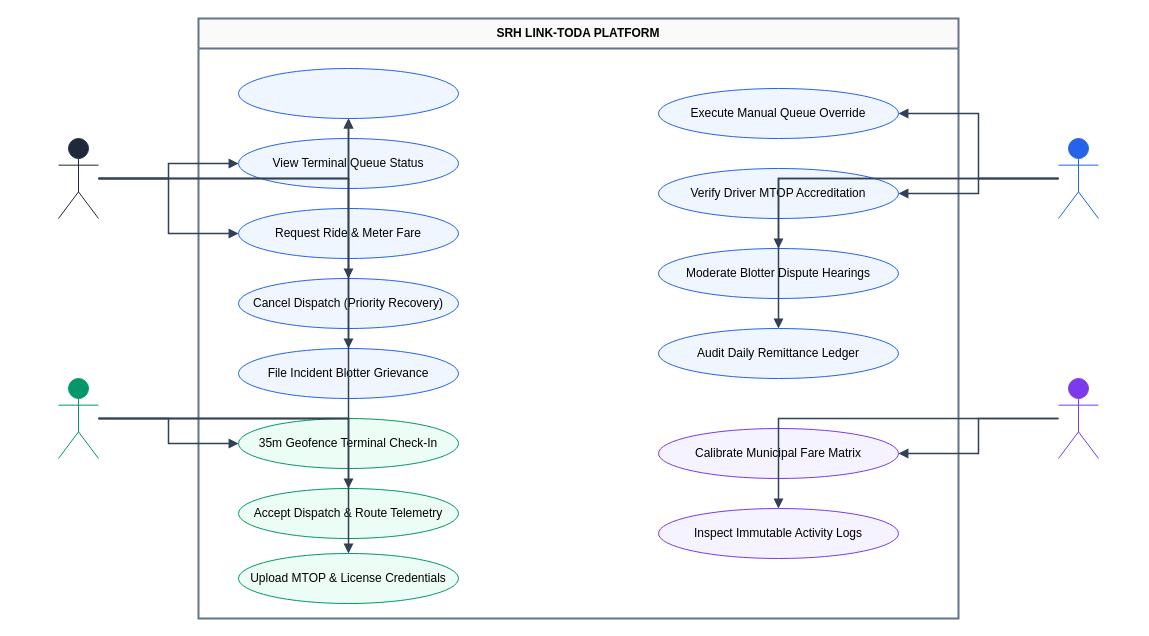
This 1149x636 diagram has some shape labels left out. The centre of each missing label's shape, as x and y in pixels:
"Authenticate & OTP Verification" belongs at (348,93).
"Passenger / Commuter" belongs at (78,178).
"Superadministrator" belongs at (1078,418).
"TODA Administrator" belongs at (1078,178).
"Tricycle Driver" belongs at (78,418).
